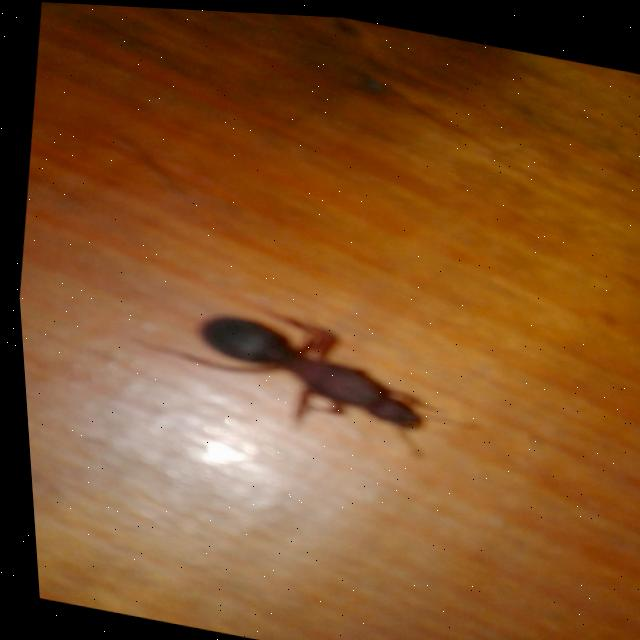Alive-Female-Dealate: (118, 281, 484, 464)
